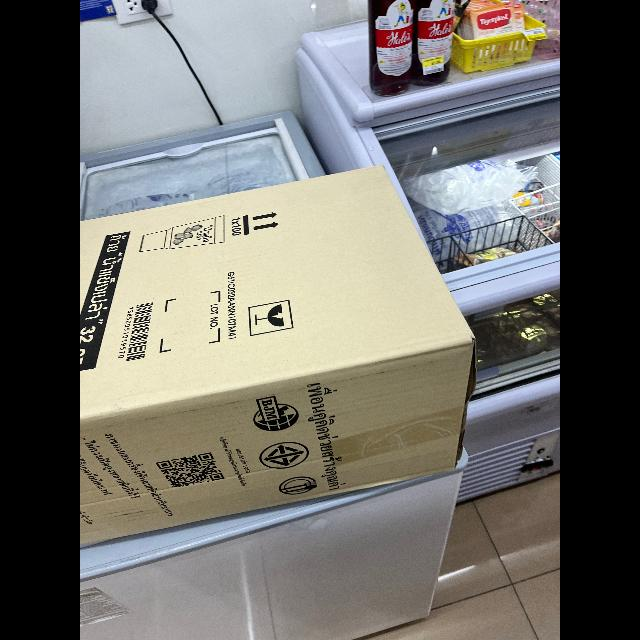cardboard_box: (80, 162, 479, 553)
